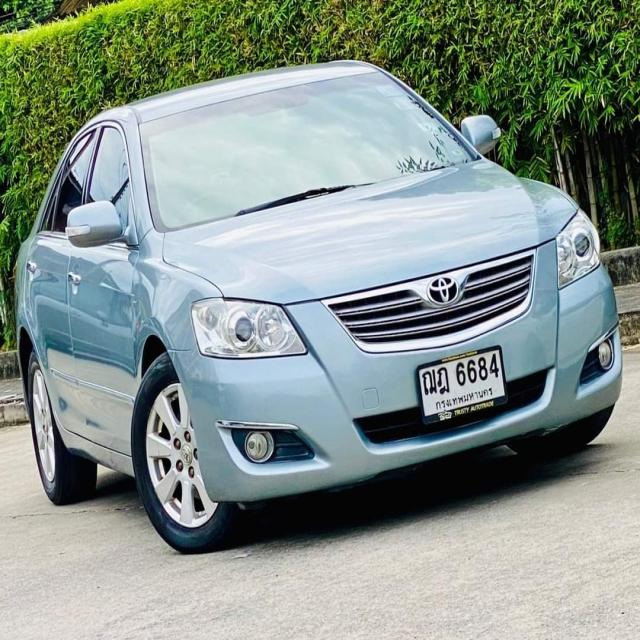license_plate: (415, 343, 510, 426)
